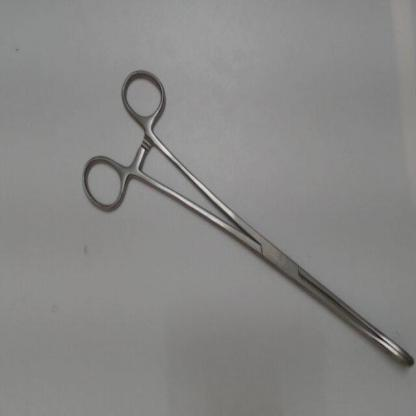Sponge Forceps: (73, 54, 416, 378)
